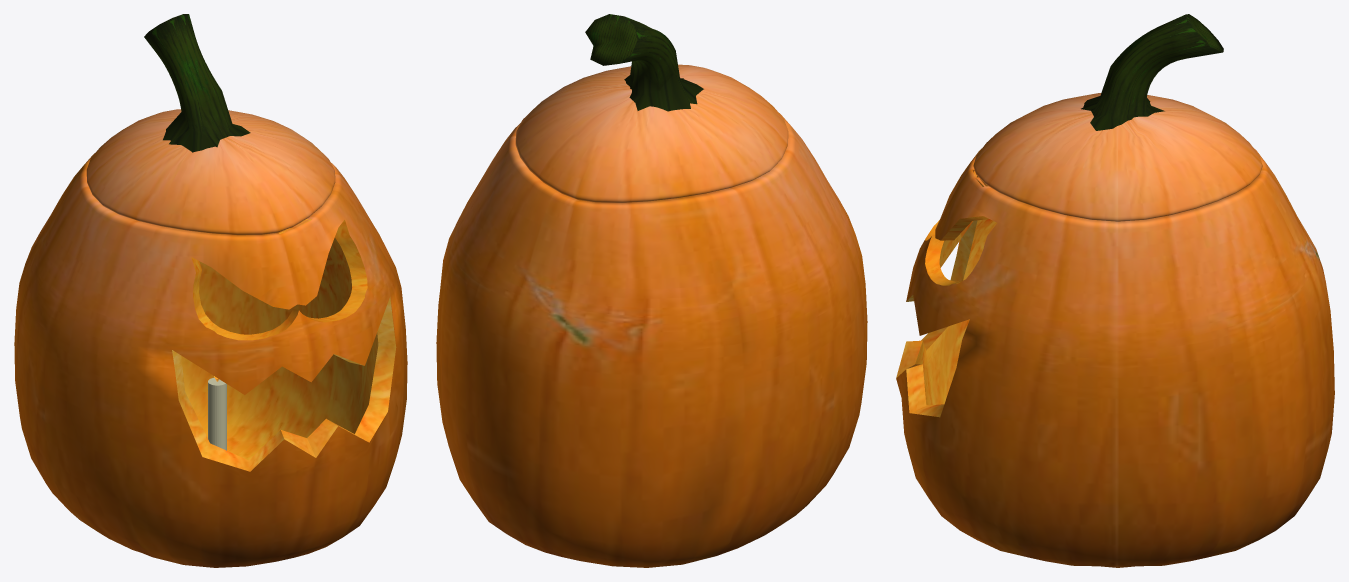
File: pumpkin5_candel.glb
The picture shows the model from 3 angles, left to right: view 1: azimuth 30°, elevation 25°; view 2: azimuth 150°, elevation 25°; view 3: azimuth 270°, elevation 25°; orthographic projection. The views are drawn at different scales.
Visible parts, largest first — view 1: backL_pumpkin_body; view 2: backL_pumpkin_body; view 3: backL_pumpkin_body.
Part boxes in pixels (x1,y1,x2,y2): backL_pumpkin_body: (14,14,407,567); backL_pumpkin_body: (436,14,867,567); backL_pumpkin_body: (896,14,1334,567).
Bounding box in the file's own units: 12.02 × 16.57 × 13.
Materials: 6 (5 with a texture image).
